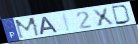2: (76, 10, 93, 30)
A: (39, 15, 60, 36)
D: (111, 4, 132, 26)
I: (62, 13, 72, 33)
M: (13, 16, 42, 40)
X: (91, 7, 116, 28)
